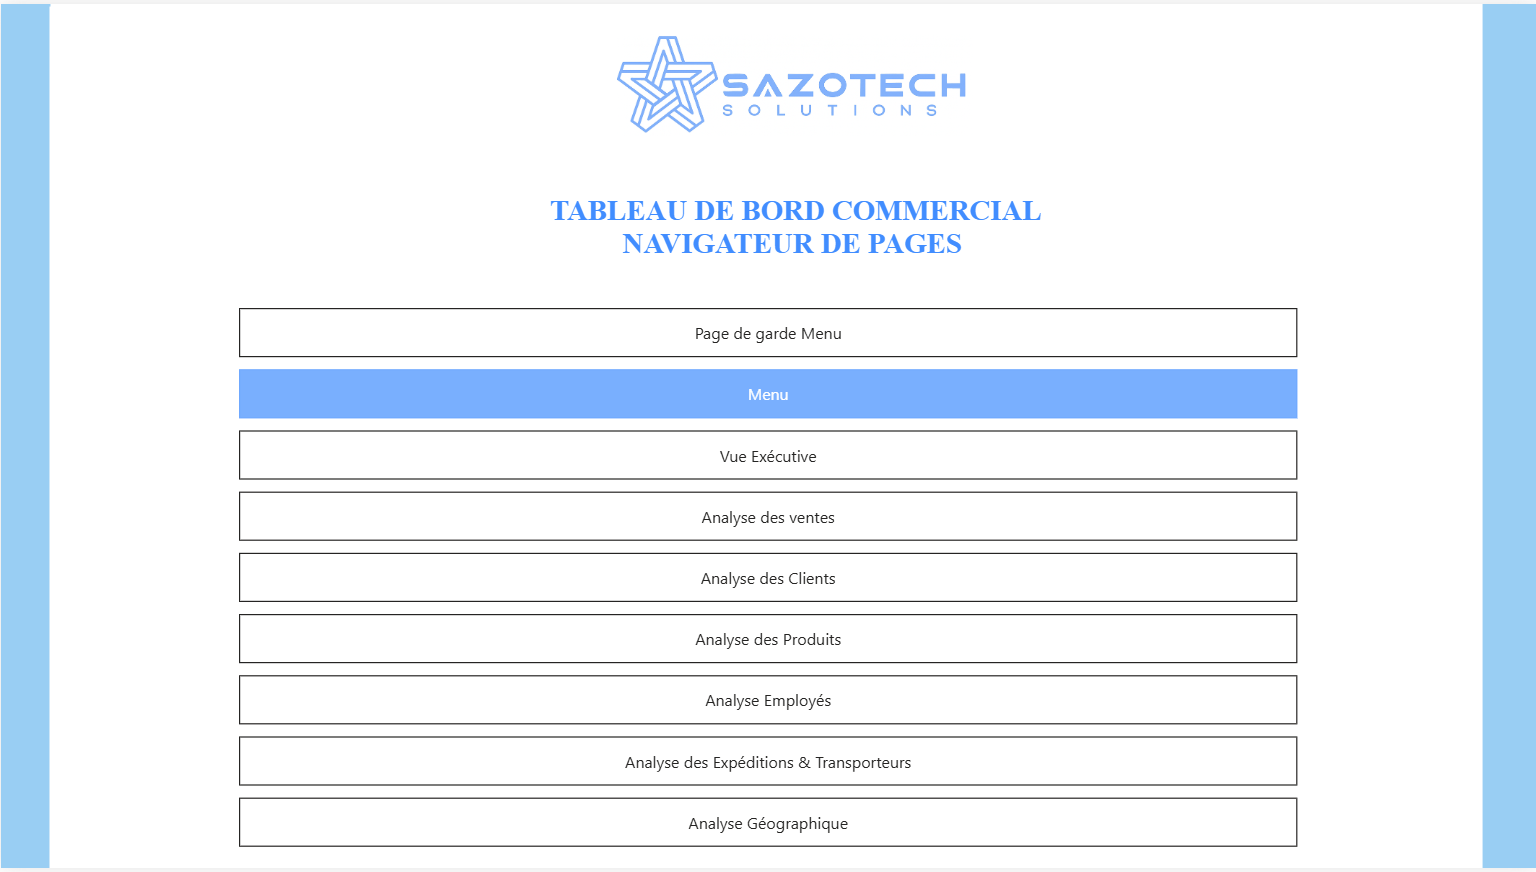

Layout of this report page (visuals, bound fields, positions):
{"tool":"powerbi","page":{"name":"Menu","canvas":[1280,720],"ordinal":1},"visuals":[{"type":"image","box":[513.3,0,296.7,135],"z":0},{"type":"pageNavigator","box":[198.7,253.3,882.7,453.5],"z":3000},{"type":"textbox","box":[171.4,135,981.2,88],"z":4000}]}

Visuals, with their boxes in screenshot pixels (x1, y1, x2, y2), scaled from the page's 1280x720 canvas onto the 1536x872 screenshot:
image: Rect(616, 0, 972, 164)
pageNavigator: Rect(238, 307, 1298, 856)
textbox: Rect(206, 164, 1383, 270)
